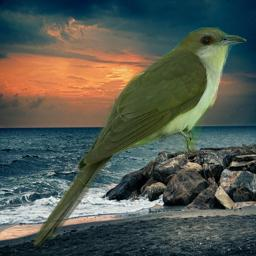Cuckoo: (33, 27, 247, 249)
